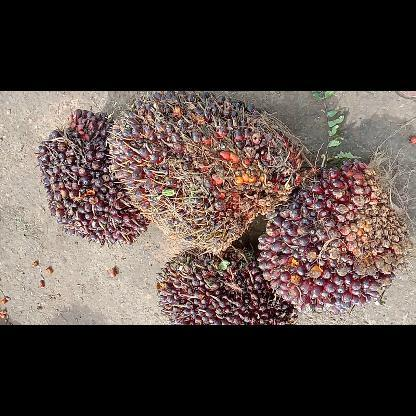Kurang masak: (107, 90, 307, 254), (259, 159, 413, 313), (35, 108, 149, 245), (156, 240, 296, 324)
